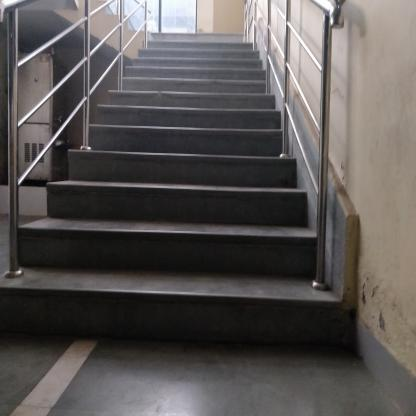stairs: (50, 159, 277, 358)
